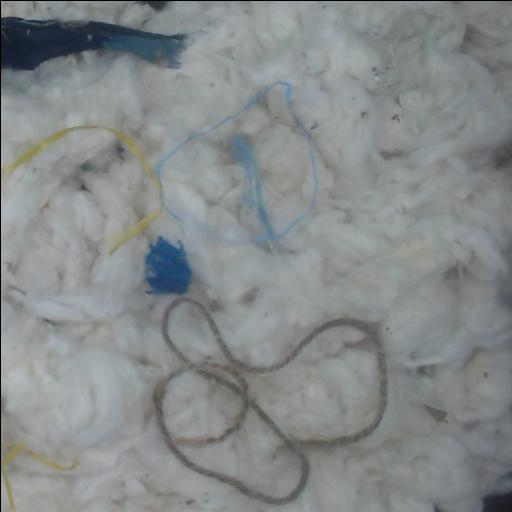cloth: (1, 18, 186, 69)
cotton: (1, 1, 512, 512)
jute: (153, 297, 387, 505)
thread: (1, 82, 315, 294)
